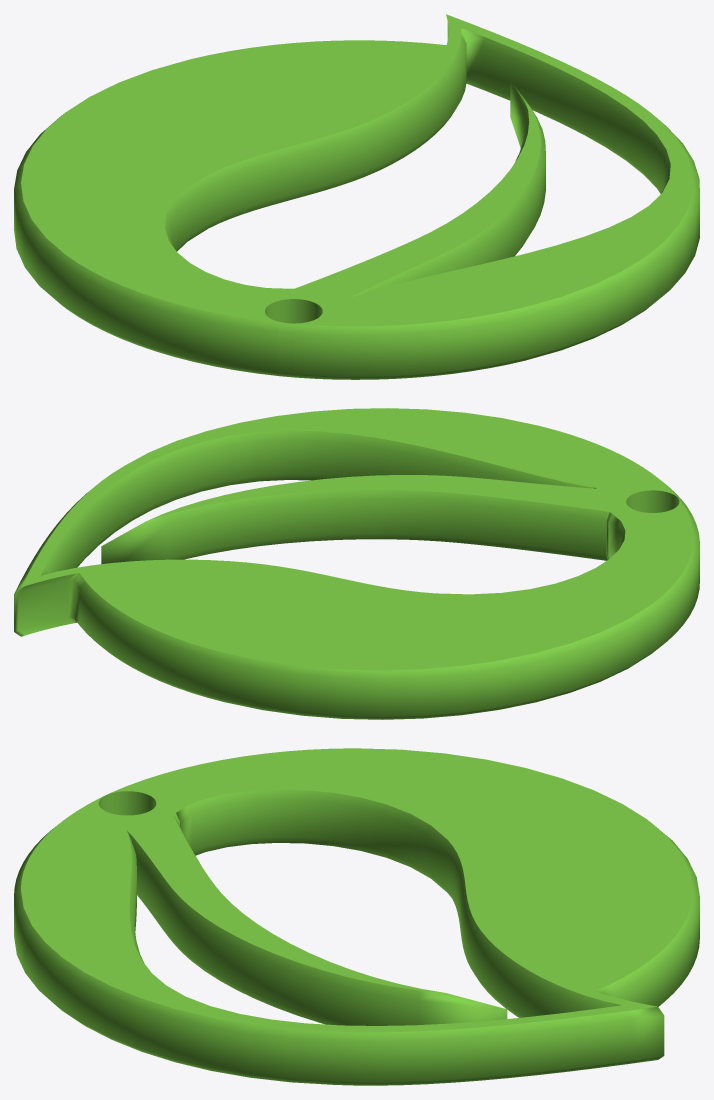
The model's file is spring.glb.
3 views of the same model, one above another, from view 1: azimuth 30°, elevation 25°; view 2: azimuth 150°, elevation 25°; view 3: azimuth 270°, elevation 25° (orthographic). The views are drawn at different scales.
Parts seen in each view (by area): view 1: Curve; view 2: Curve; view 3: Curve.
Part boxes in pixels (x1,y1,x2,y2): Curve: [14, 14, 699, 379]; Curve: [14, 408, 699, 719]; Curve: [14, 748, 699, 1085].
Bounding box in the file's own units: 1.96 × 0.1685 × 1.96.
